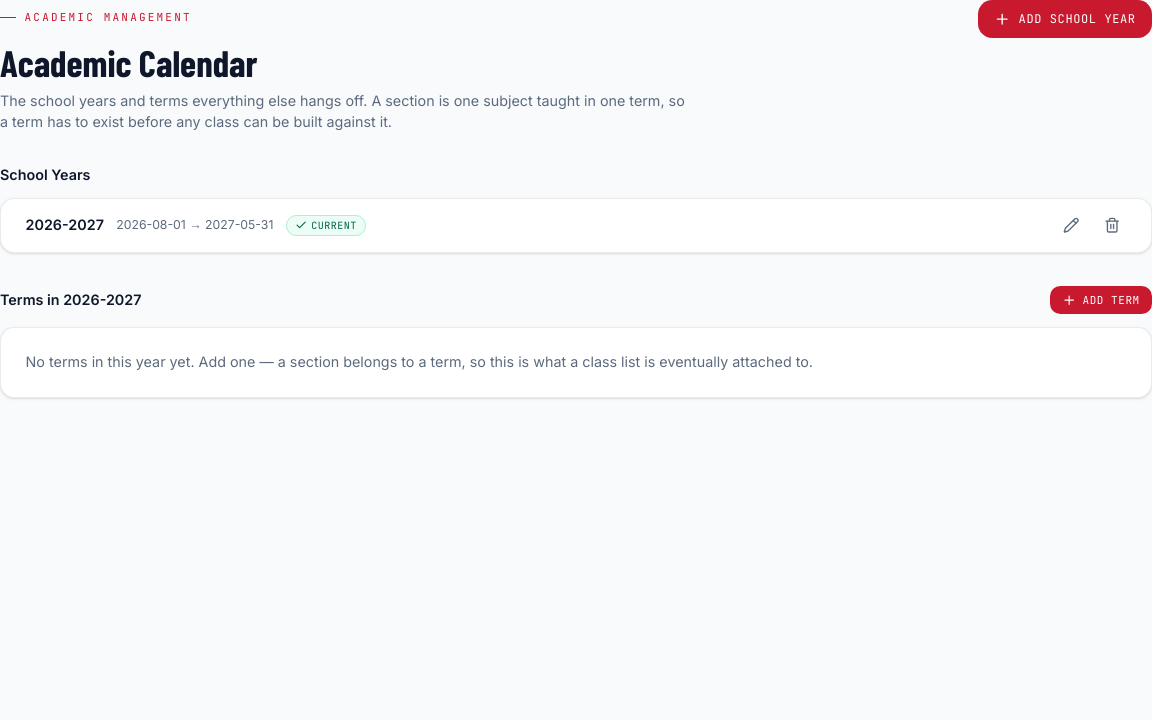
Test: Academic Calendar — correcting and removing › shows the server's reason when a year still has terms, not 'please try again'
Click the button named "Delete 2026-2027" at (1112, 225), box [1098,211,1126,240]
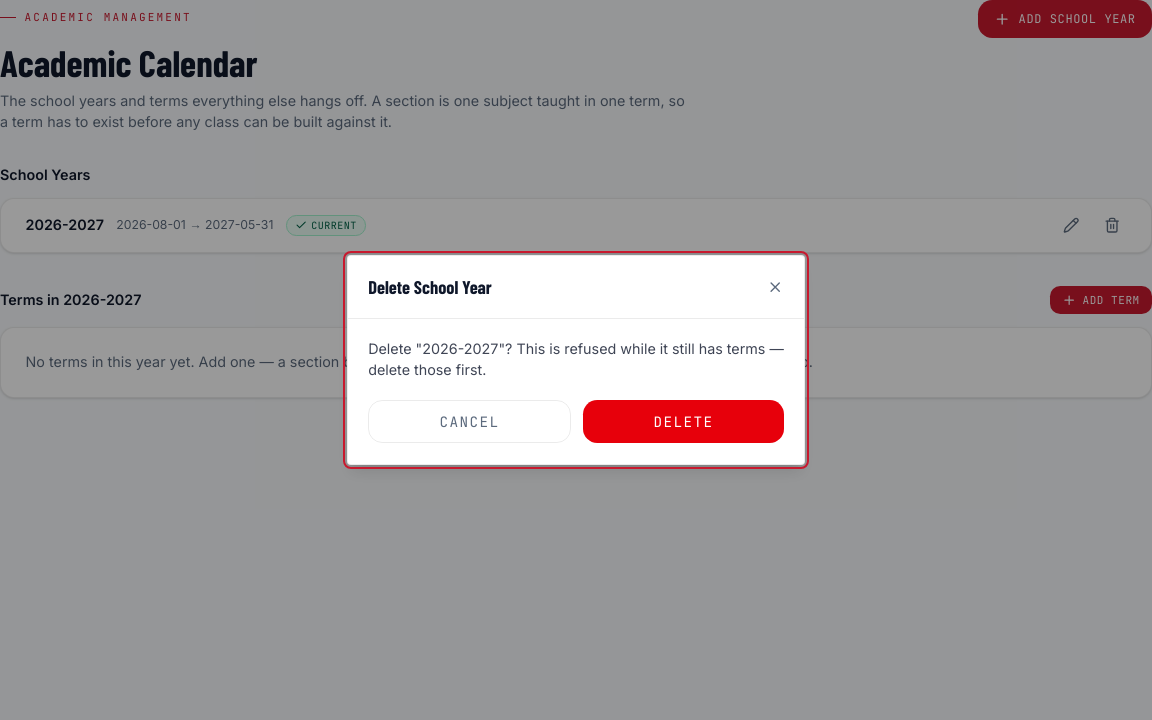
Click the button "Delete" at (683, 422), box [583,400,784,443]
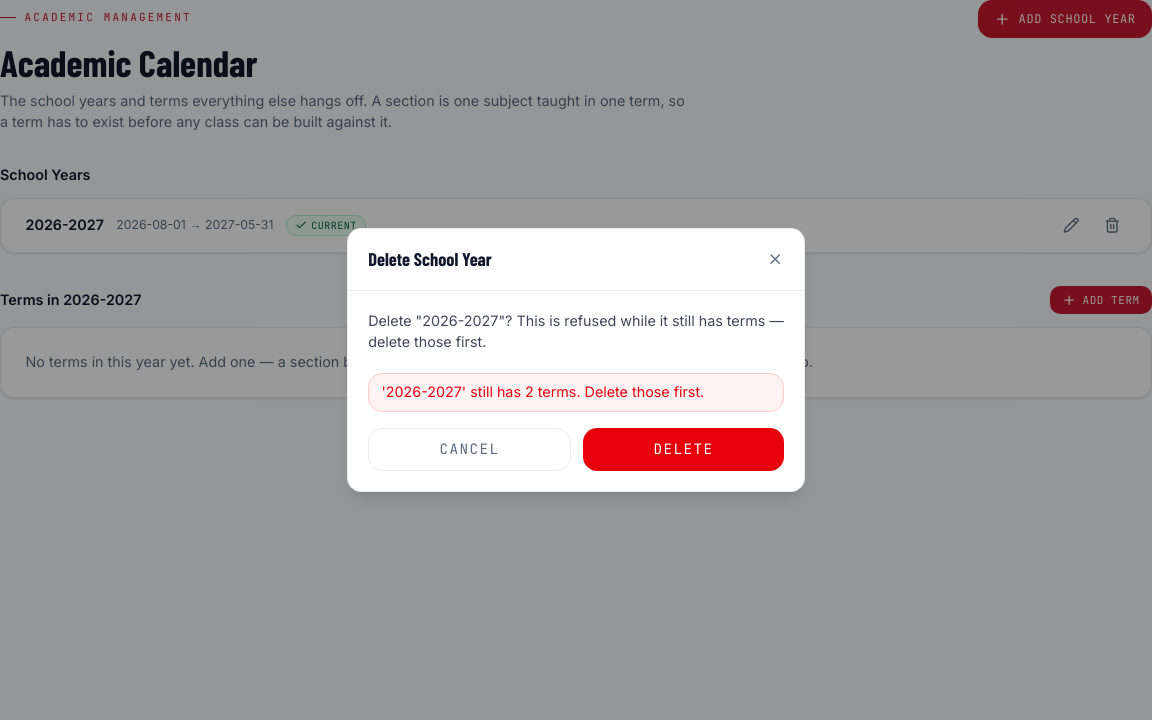
Expected: the text "'2026-2027' still has 2 terms. Delete those first." is shown, [368,373,784,412]
